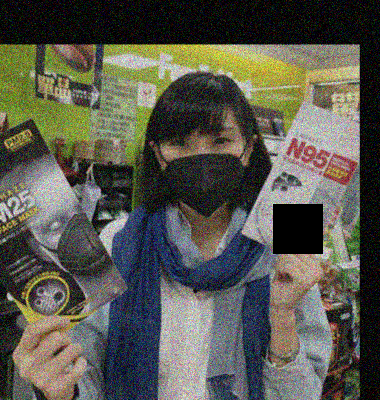with_mask: (158, 125, 246, 217)
